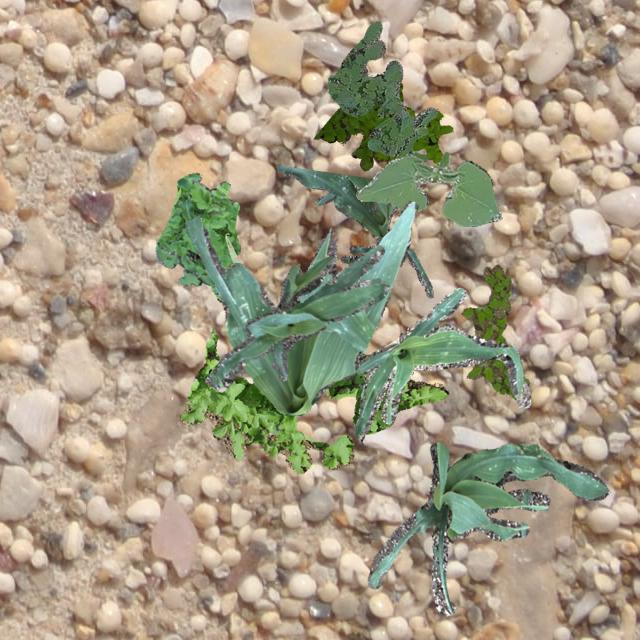crop: (185, 200, 418, 414), (366, 442, 608, 614), (205, 244, 388, 390), (353, 286, 530, 436), (274, 165, 432, 296), (354, 152, 502, 226)
weed: (180, 332, 448, 472), (328, 21, 437, 161), (314, 82, 452, 170), (156, 172, 240, 302), (461, 264, 515, 398)
